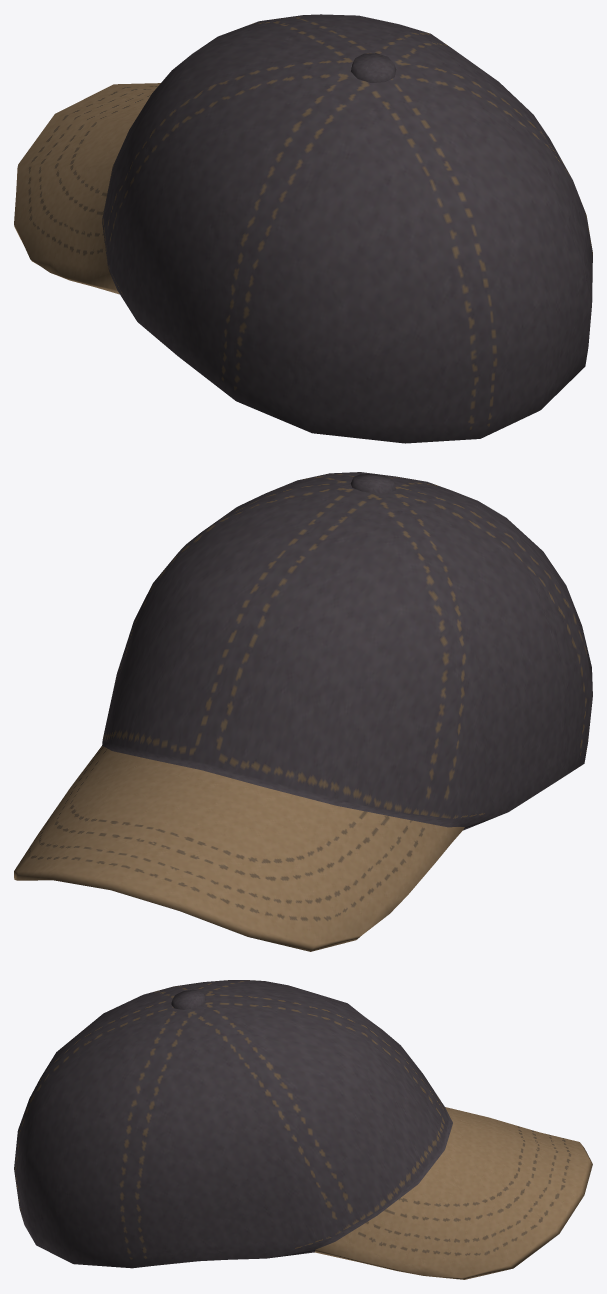
Rendered from Cap.fbx.
3 views of the same model, one above another, from view 1: azimuth 30°, elevation 25°; view 2: azimuth 150°, elevation 25°; view 3: azimuth 270°, elevation 25° (orthographic). The views are drawn at different scales.
Parts seen in each view (by area): view 1: pasted__Hats; view 2: pasted__Hats; view 3: pasted__Hats.
Part boxes in pixels (x1,y1,x2,y2): pasted__Hats: (14,14,592,443); pasted__Hats: (14,472,592,951); pasted__Hats: (14,980,592,1279).
Size of the model in its own units: 17.96 by 30.91 by 13.58.
Materials: 1 (1 with a texture image).
